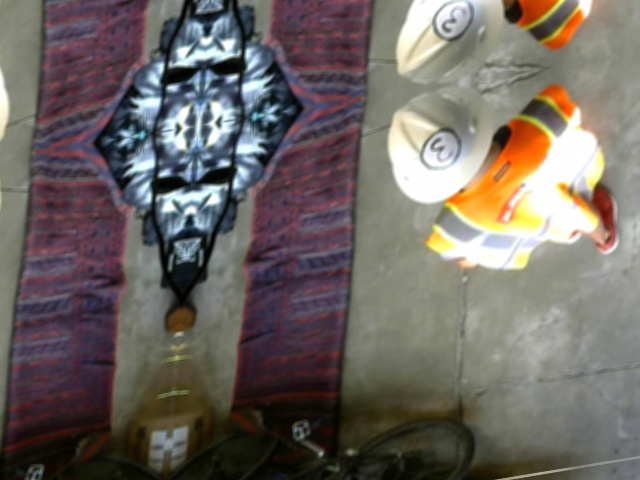three: (418, 125, 461, 171)
